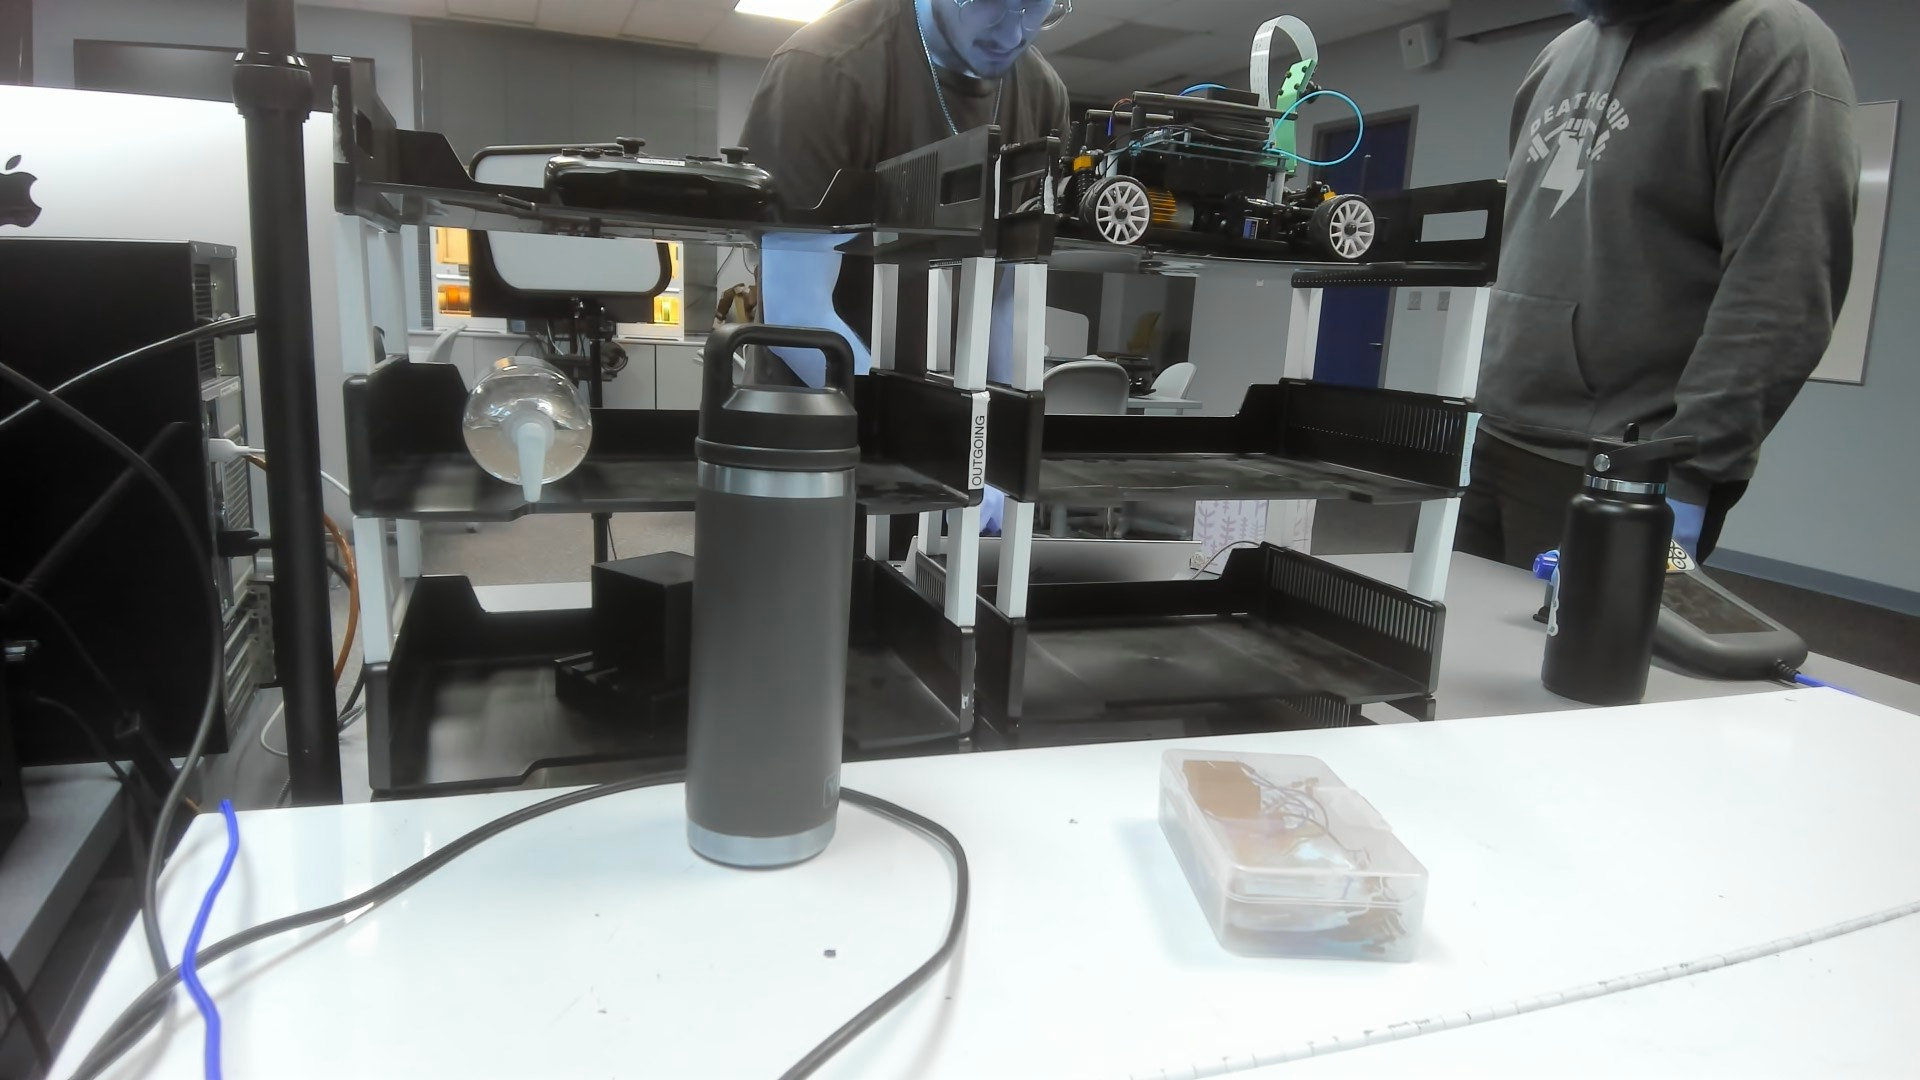black pallet: (549, 541, 698, 737)
